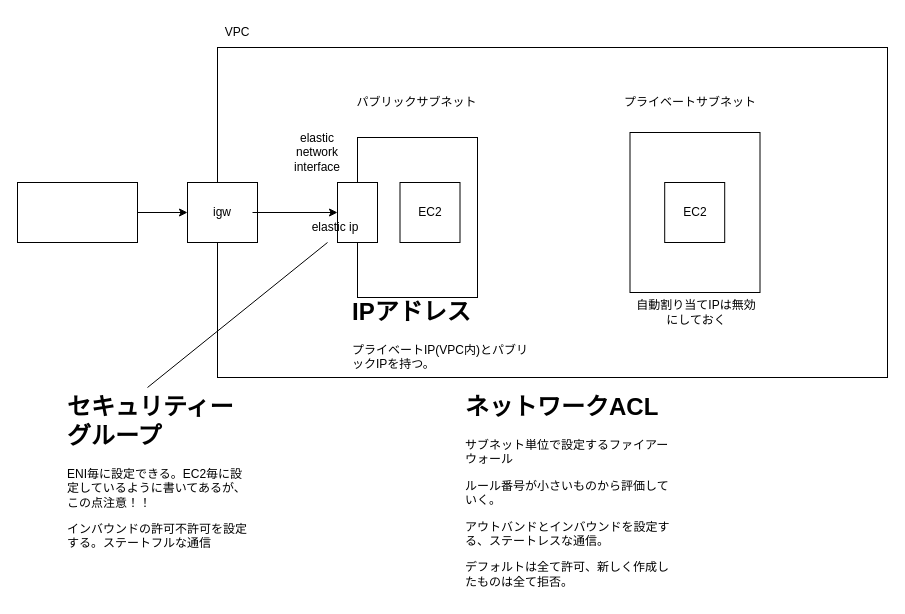
The diagram is 905 pixels wide and 614 high, and some of its shapes have lost their labels. Here are the shapes that lost their labels. From the top down, the centre of each, then its label:
[77,212]: インターネット
[357,212]: ENI
